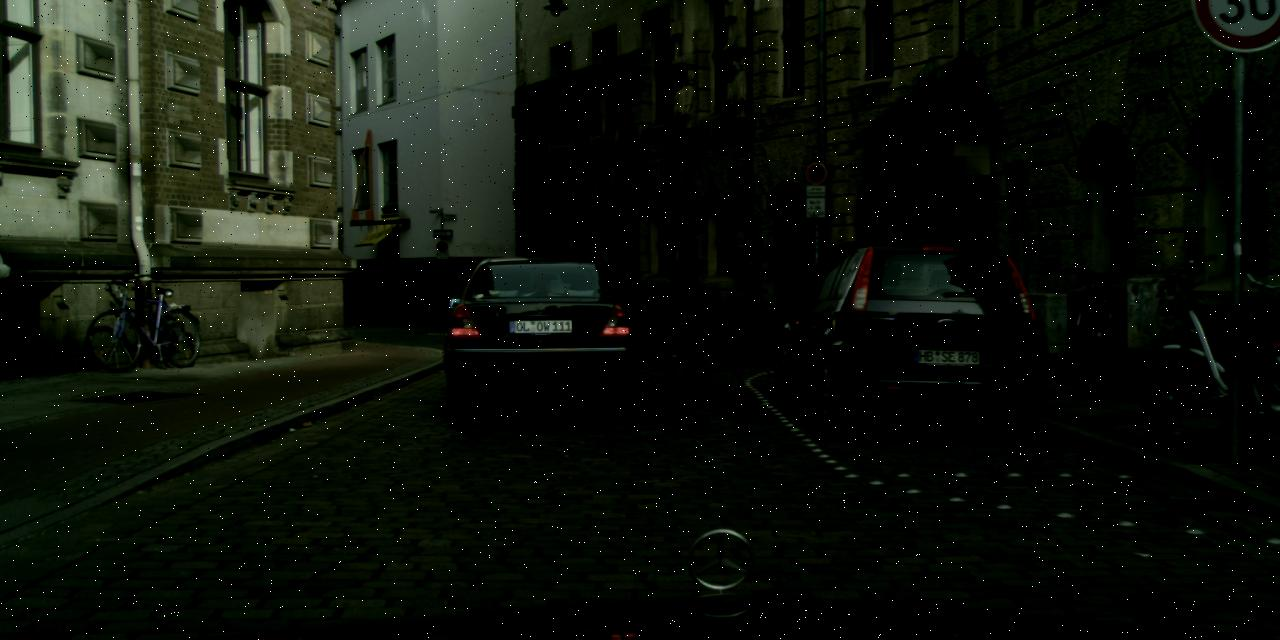ped: (404, 274, 425, 326), (414, 286, 428, 324)
